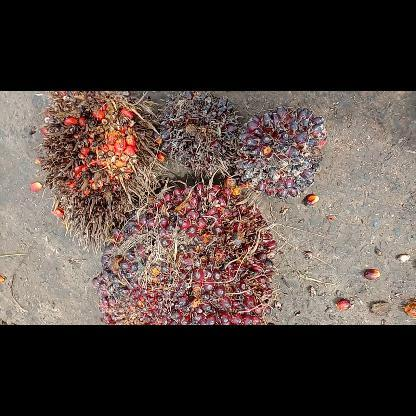TBS abnormal: (232, 105, 330, 201), (156, 91, 242, 177)
TBS masak: (89, 180, 281, 324)
Terlalu masak: (34, 91, 164, 251)
